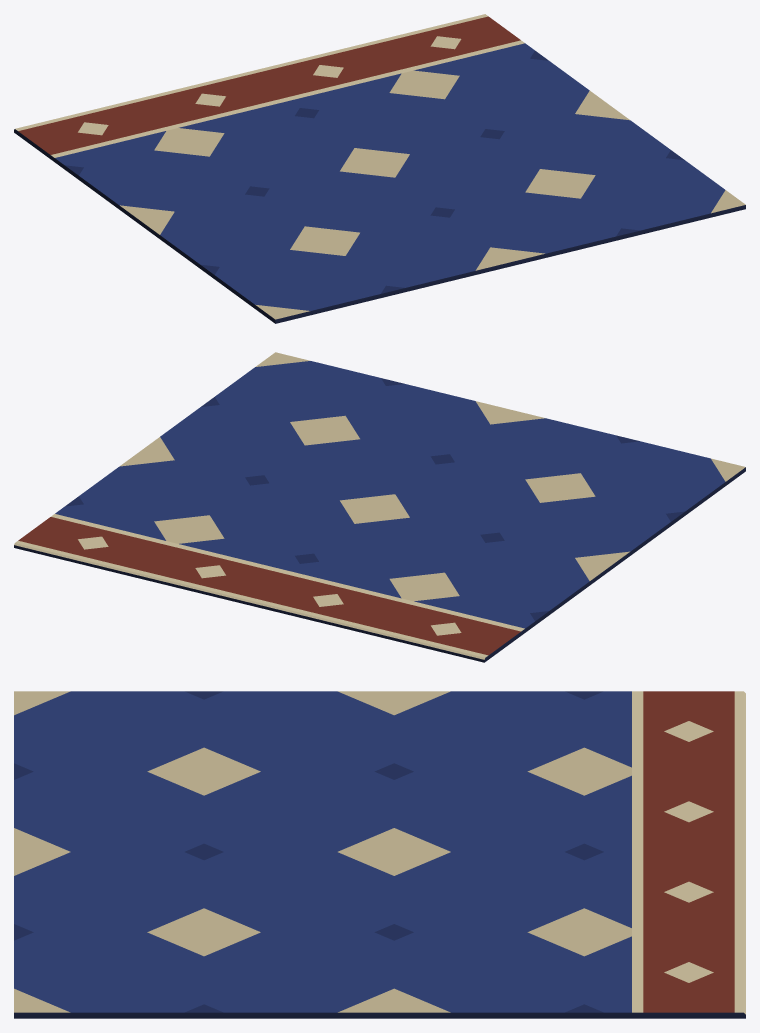
The model's file is carpet_blue_edge_A.glb.
The picture shows the model from 3 angles, top to bottom: view 1: azimuth 30°, elevation 25°; view 2: azimuth 150°, elevation 25°; view 3: azimuth 270°, elevation 25°; orthographic projection. The views are drawn at different scales.
Visible parts, largest first — view 1: Item; view 2: Item; view 3: Item.
Part boxes in pixels (<box>): Item: <box>14,14,745,323</box>; Item: <box>14,352,745,662</box>; Item: <box>14,691,745,1018</box>.
Size of the model in its own units: 4 by 0.035 by 3.85.
1 material, 1 textured.
